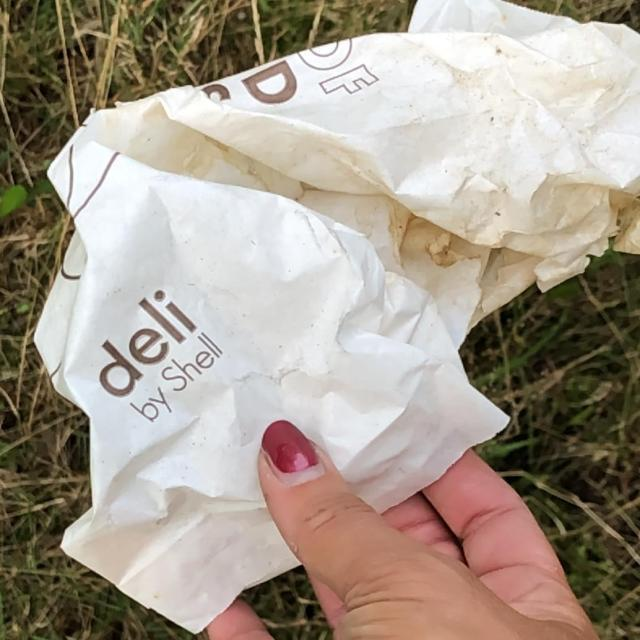Paper: (32, 0, 639, 634)
